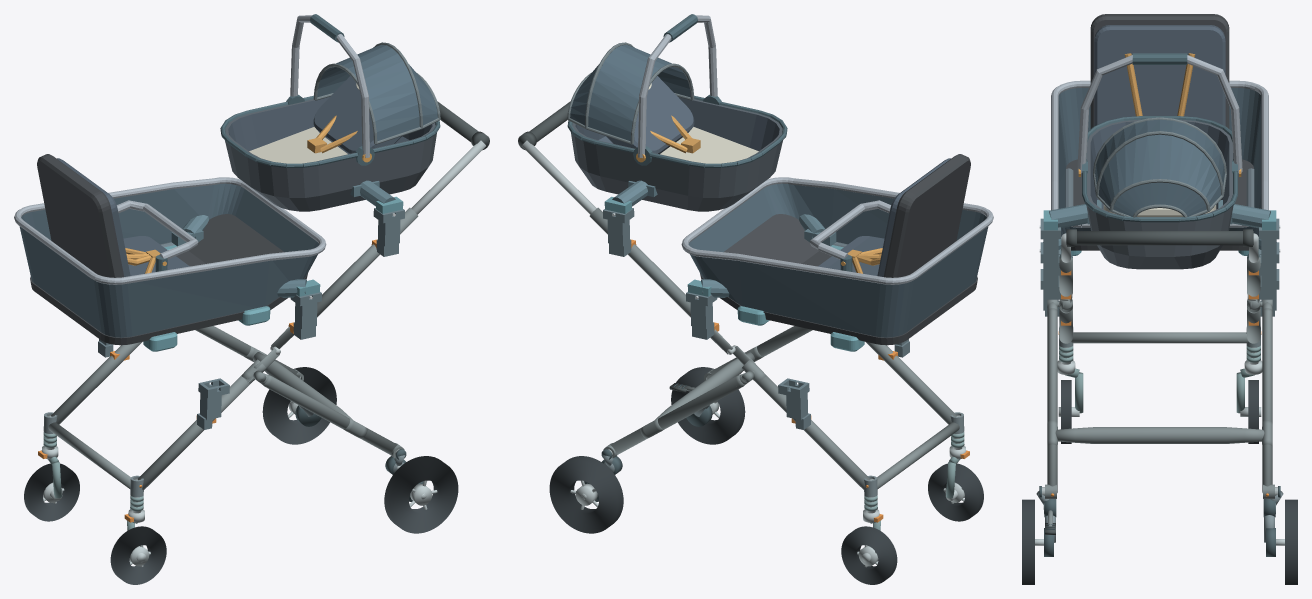
File: D22_w550_state1_wheel_S.glb
3 views of the same model, side by side, from view 1: azimuth 30°, elevation 25°; view 2: azimuth 150°, elevation 25°; view 3: azimuth 270°, elevation 25° (orthographic). The views are drawn at different scales.
Visible parts, largest first — view 1: D22_Lower, D22_Upper, RL_tire.002, RR_tire.002, FL_tire.002, FR_tire.002, V46_rear_leg_-1.003, main_lower_-1.003, main_upper_-1.003, main_lower_1.003, D22_Lower_Mount_M, Universal_Cabin_Receiver_L_-1 (+8 smaller); view 2: D22_Lower, D22_Upper, RR_tire.002, RL_tire.002, FR_tire.002, FL_tire.002, V46_rear_leg_1.003, main_lower_1.003, main_upper_1.003, main_lower_-1.003, D22_Lower_Mount_M, Universal_Cabin_Receiver_L_1 (+8 smaller); view 3: D22_Upper, D22_Lower, V46_rearbar.003, round_handle.002, front_fixed_round_tube.002, D22_Upper_Mount_H, V46_rear_leg_1.003, V46_rear_leg_-1.003, RL_tire.002, RR_tire.002, Universal_Cabin_Receiver_H_1, Universal_Cabin_Receiver_H_-1 (+8 smaller).
Boxes of the visible parts, left/top/right/bottom form: D22_Lower: left=14, top=154, right=326, bottom=351; D22_Upper: left=220, top=14, right=440, bottom=211; RL_tire.002: left=384, top=456, right=458, bottom=533; RR_tire.002: left=262, top=367, right=336, bottom=444; FL_tire.002: left=110, top=526, right=166, bottom=584; FR_tire.002: left=24, top=463, right=79, bottom=521; V46_rear_leg_-1.003: left=262, top=375, right=397, bottom=454; main_lower_-1.003: left=137, top=375, right=253, bottom=490; main_upper_-1.003: left=294, top=207, right=418, bottom=322; main_lower_1.003: left=51, top=342, right=141, bottom=424; D22_Lower_Mount_M: left=171, top=215, right=320, bottom=299; Universal_Cabin_Receiver_L_-1: left=197, top=378, right=229, bottom=429; D22_Lower: left=681, top=154, right=993, bottom=351; D22_Upper: left=567, top=14, right=787, bottom=211; RR_tire.002: left=549, top=456, right=623, bottom=533; RL_tire.002: left=671, top=367, right=745, bottom=444; FR_tire.002: left=841, top=526, right=897, bottom=584; FL_tire.002: left=928, top=463, right=983, bottom=521; V46_rear_leg_1.003: left=610, top=375, right=745, bottom=454; main_lower_1.003: left=754, top=375, right=870, bottom=490; main_upper_1.003: left=589, top=207, right=713, bottom=322; main_lower_-1.003: left=866, top=342, right=956, bottom=424; D22_Lower_Mount_M: left=687, top=214, right=836, bottom=299; Universal_Cabin_Receiver_L_1: left=778, top=378, right=810, bottom=429; D22_Upper: left=1077, top=53, right=1242, bottom=269; D22_Lower: left=1051, top=14, right=1268, bottom=255; V46_rearbar.003: left=1055, top=427, right=1264, bottom=443; round_handle.002: left=1066, top=231, right=1253, bottom=245; front_fixed_round_tube.002: left=1071, top=332, right=1248, bottom=343; D22_Upper_Mount_H: left=1039, top=200, right=1280, bottom=230; V46_rear_leg_1.003: left=1262, top=308, right=1272, bottom=492; V46_rear_leg_-1.003: left=1047, top=308, right=1057, bottom=492; RL_tire.002: left=1022, top=499, right=1034, bottom=584; RR_tire.002: left=1285, top=499, right=1297, bottom=584; Universal_Cabin_Receiver_H_1: left=1259, top=218, right=1279, bottom=275; Universal_Cabin_Receiver_H_-1: left=1040, top=218, right=1060, bottom=275.
Bounding box in the file's own units: 1.15 × 1.32 × 0.6471.
